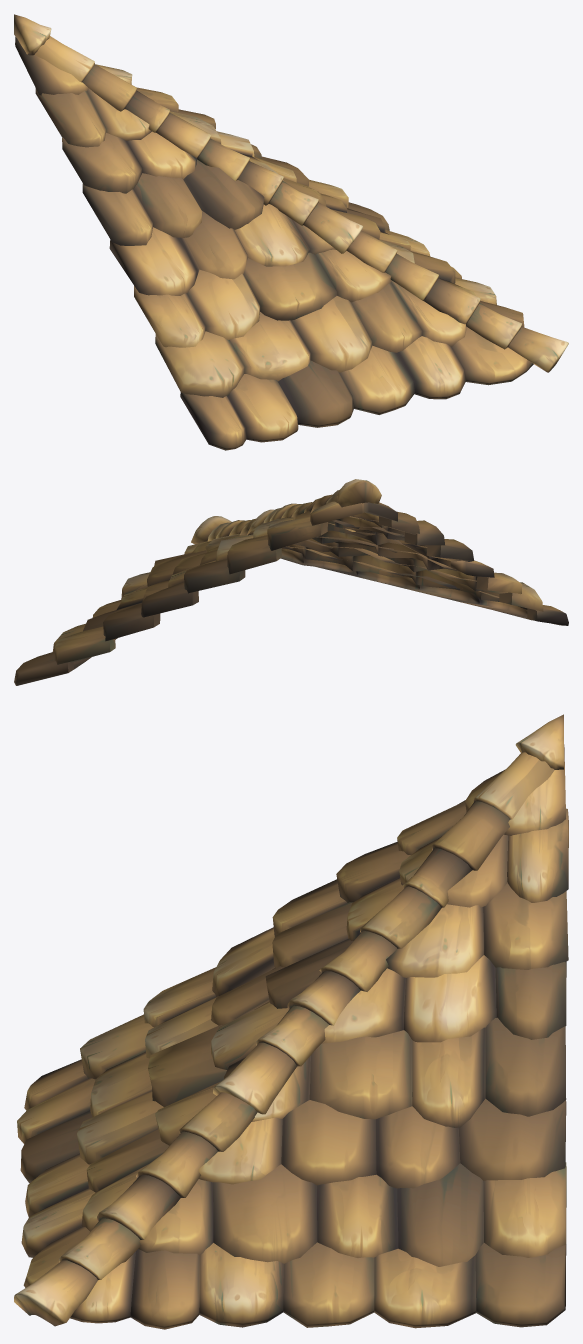
Rendered from SM_MOD_roof_corner_convex_bricks_town.fbx.
3 views of the same model, one above another, from view 1: azimuth 30°, elevation 25°; view 2: azimuth 150°, elevation 25°; view 3: azimuth 270°, elevation 25° (orthographic). The views are drawn at different scales.
Visible parts, largest first — view 1: SM_MOD_roof_corner_convex_bricks_town_LOD0; view 2: SM_MOD_roof_corner_convex_bricks_town_LOD0; view 3: SM_MOD_roof_corner_convex_bricks_town_LOD0.
Boxes of the visible parts, x1,y1,x2,y2 form: SM_MOD_roof_corner_convex_bricks_town_LOD0: (14, 14, 568, 450); SM_MOD_roof_corner_convex_bricks_town_LOD0: (14, 479, 568, 685); SM_MOD_roof_corner_convex_bricks_town_LOD0: (14, 714, 568, 1329).
Size of what is drawn, in the model's own units: 434 by 333 by 433.
